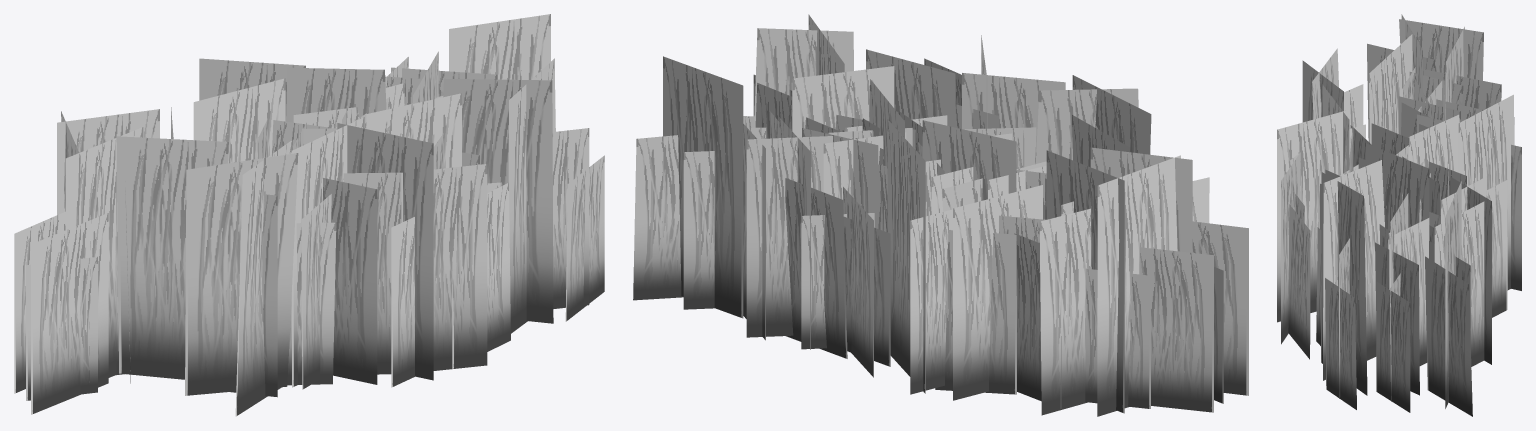
File: Aqua Grass Composition3.fbx
3 renders of one model, left to right at view 1: azimuth 30°, elevation 25°; view 2: azimuth 150°, elevation 25°; view 3: azimuth 270°, elevation 25°, orthographic. The views are drawn at different scales.
Visible parts, largest first — view 1: Aqua Grass Composition3; view 2: Aqua Grass Composition3; view 3: Aqua Grass Composition3.
Boxes of the visible parts, x1,y1,x2,y2 form: Aqua Grass Composition3: (14,14,604,416); Aqua Grass Composition3: (633,14,1248,416); Aqua Grass Composition3: (1277,14,1521,416).
Size of the model in its own units: 11.46 by 4.8 by 5.23.
Materials: 1 (1 with a texture image).
